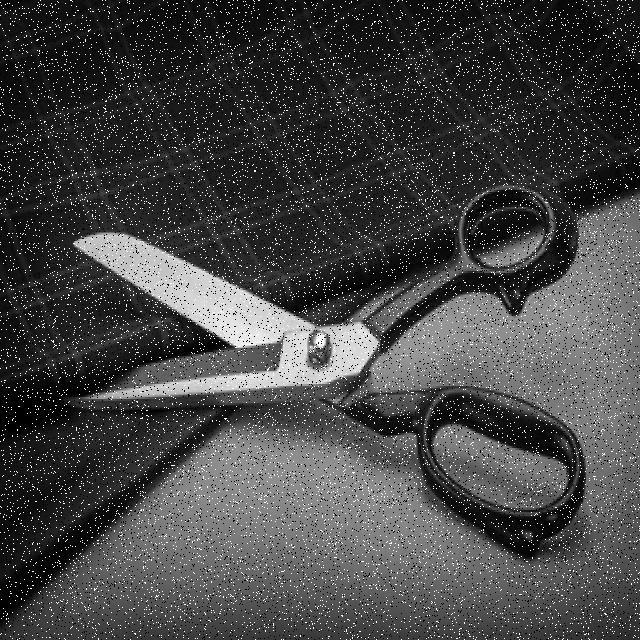scissors: (52, 174, 592, 566)
